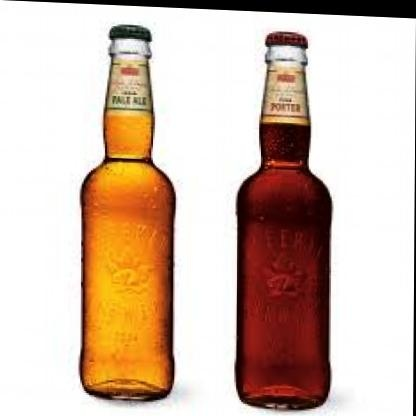trash: (236, 32, 330, 408), (80, 25, 174, 399)
